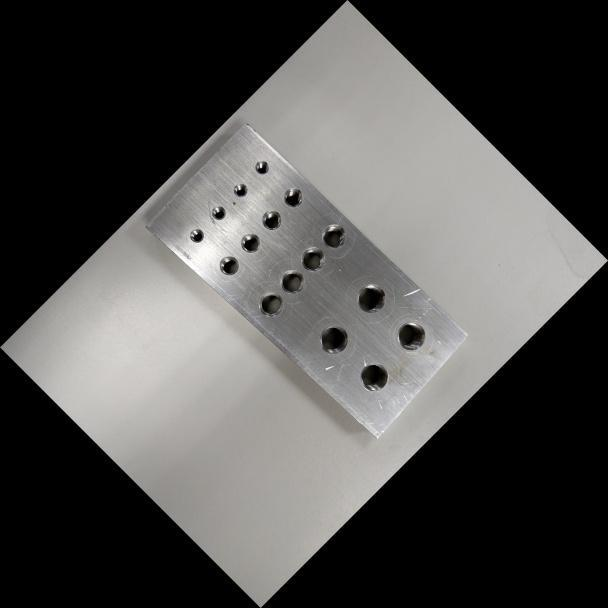hole: (349, 277, 392, 320), (312, 317, 355, 360), (390, 315, 432, 357), (353, 356, 394, 398), (315, 218, 352, 255), (252, 286, 289, 323), (294, 240, 330, 277), (274, 263, 310, 300), (278, 182, 308, 212), (257, 205, 286, 235), (235, 228, 265, 257), (214, 251, 243, 280), (251, 156, 272, 177), (230, 179, 251, 200), (208, 202, 229, 223), (186, 225, 207, 246)
